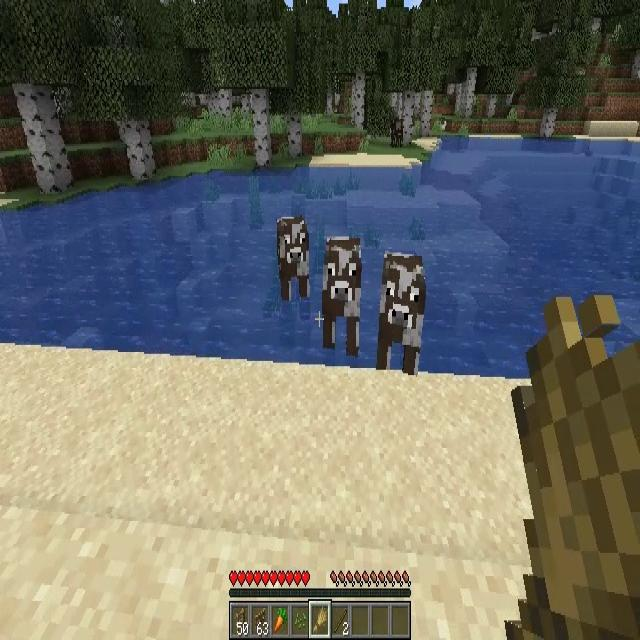cow: (376, 256, 423, 374), (319, 239, 361, 352), (277, 215, 309, 296), (390, 120, 403, 148)
duck: (440, 120, 448, 130)
